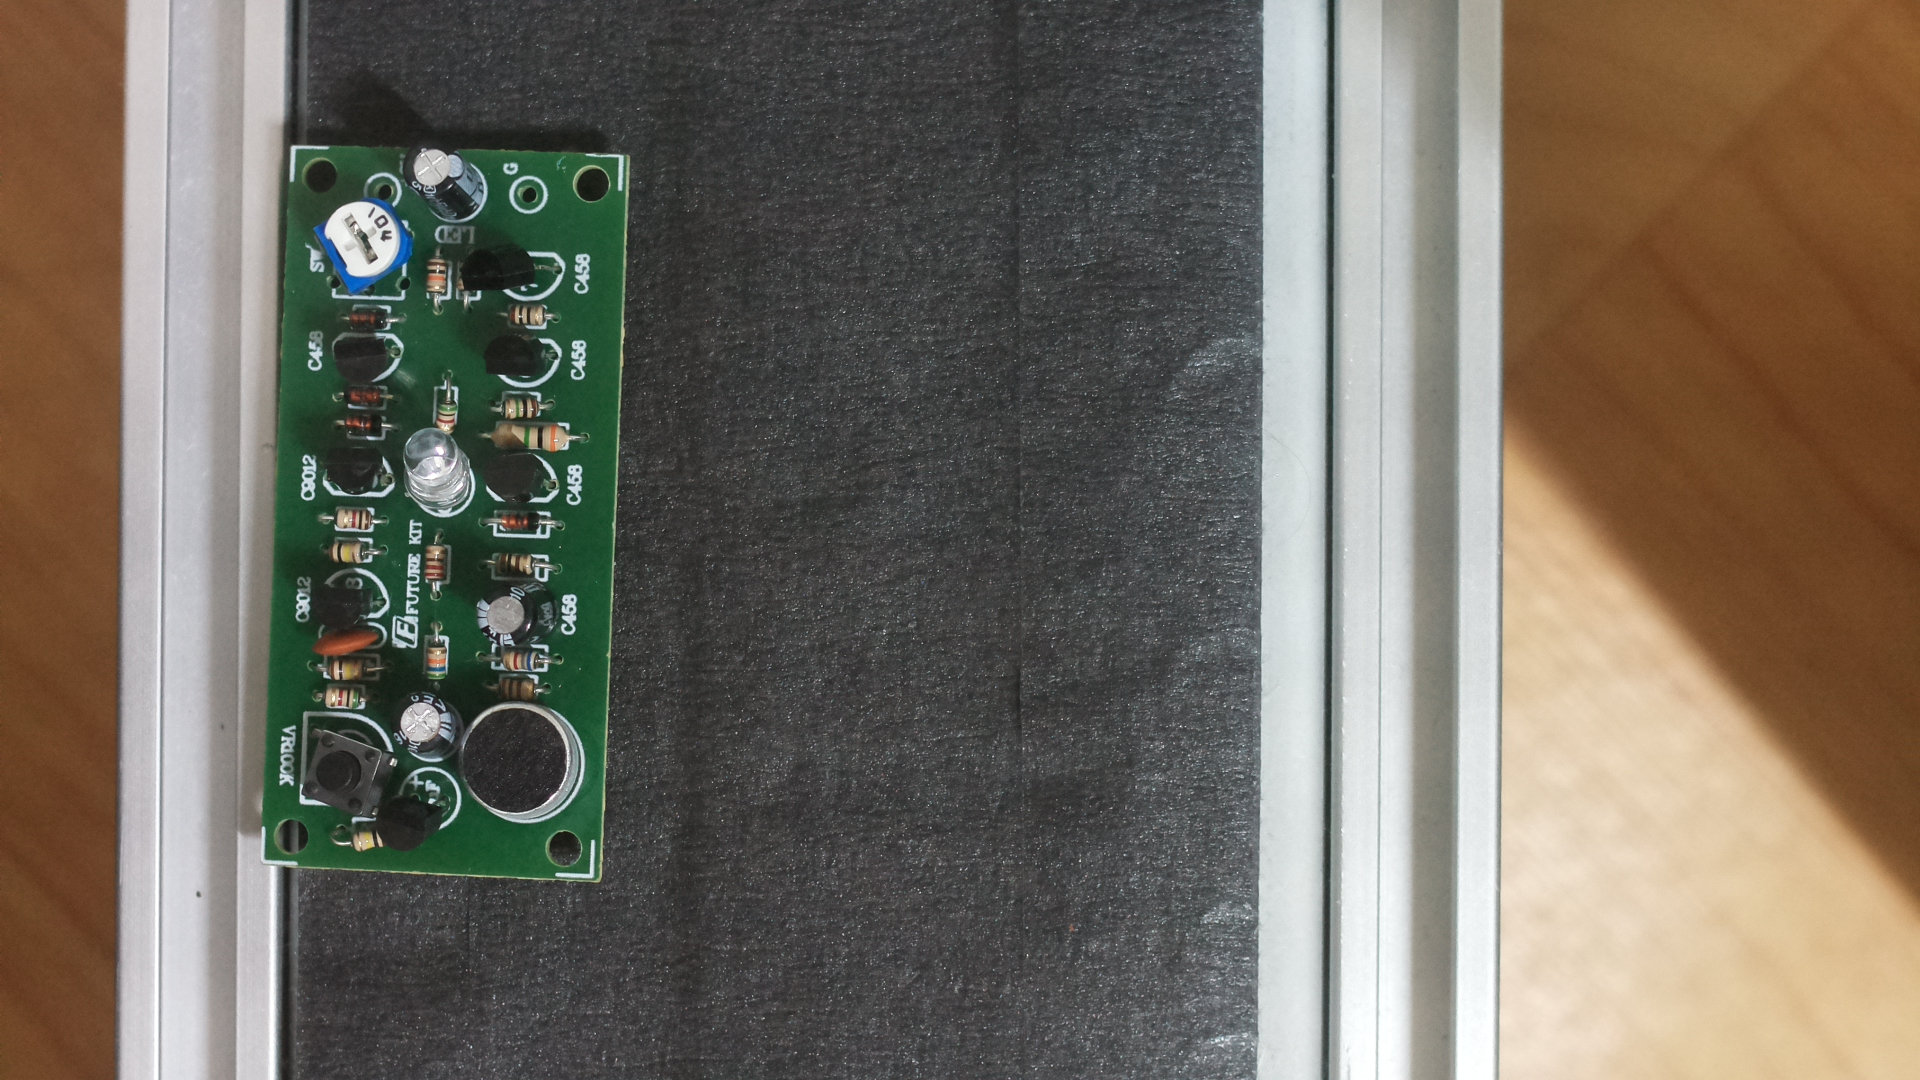A_Misordered: (257, 109, 642, 907)
